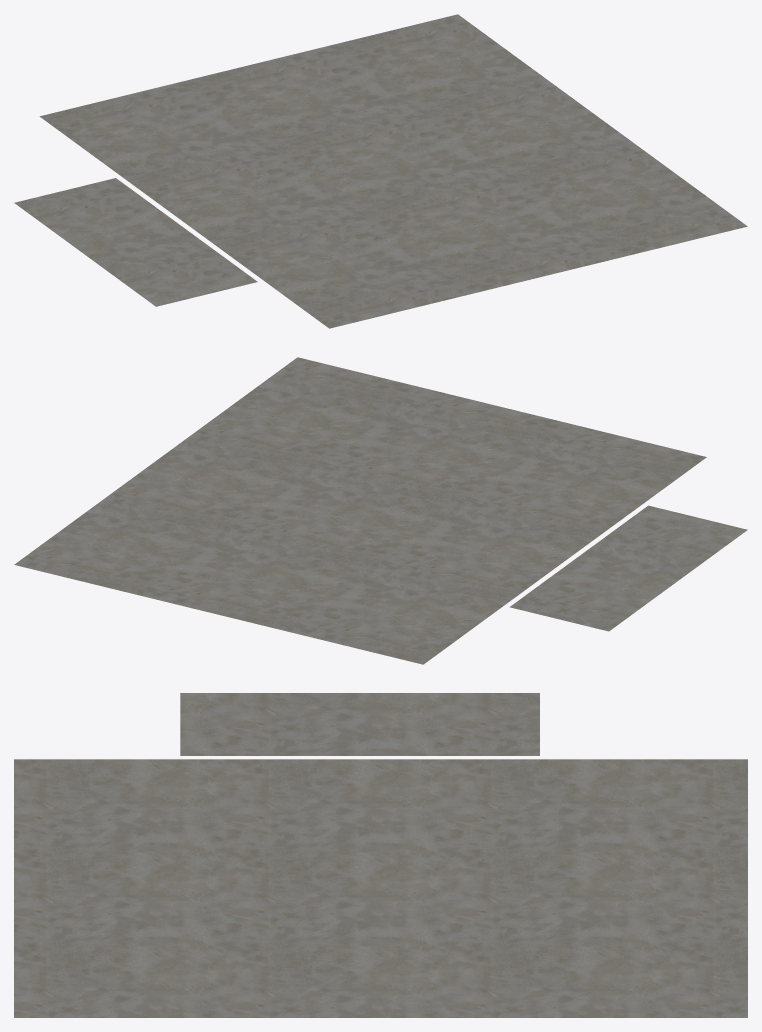
File: R1_Ceiling.FBX
3 views of the same model, one above another, from view 1: azimuth 30°, elevation 25°; view 2: azimuth 150°, elevation 25°; view 3: azimuth 270°, elevation 25° (orthographic). The views are drawn at different scales.
Parts seen in each view (by area): view 1: R1_Ceiling; view 2: R1_Ceiling; view 3: R1_Ceiling.
Part boxes in pixels (x1,y1,x2,y2): R1_Ceiling: (14, 14, 747, 328); R1_Ceiling: (14, 357, 747, 664); R1_Ceiling: (14, 693, 747, 1017).
Size of the model in its own units: 1395 by 1.14e-13 by 1332.
Materials: 1 (1 with a texture image).
